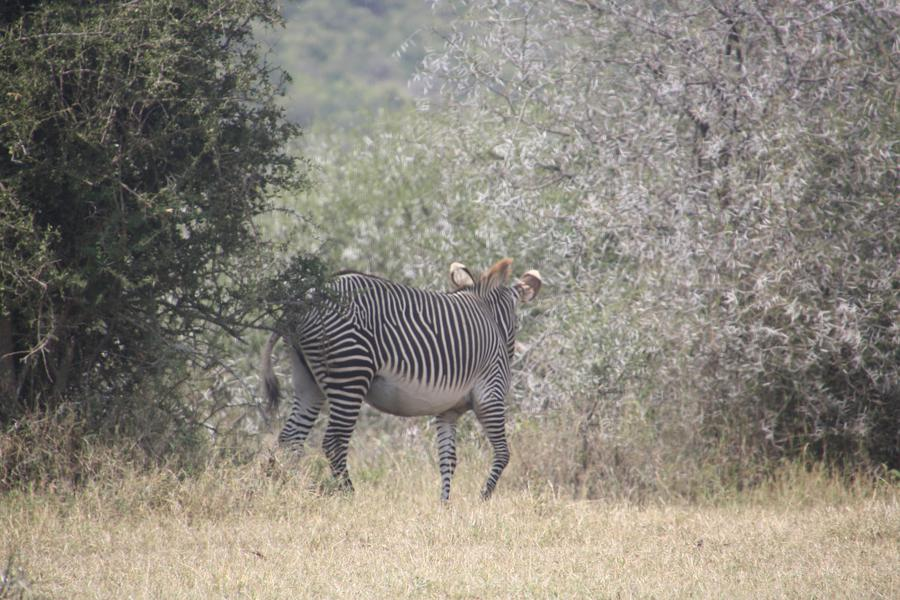zebra_grevys: (293, 258, 506, 406)
